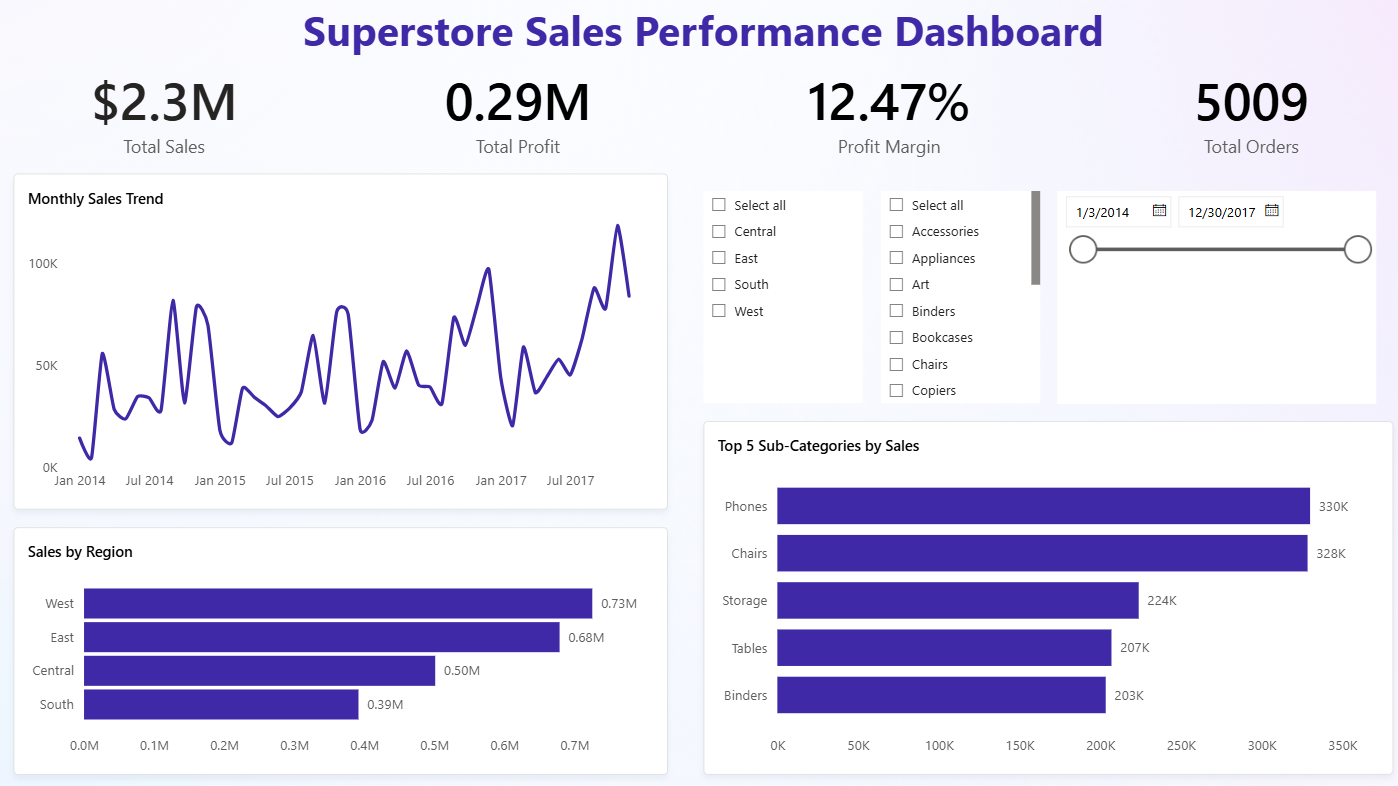

This screenshot's page, from the dashboard's own definition file:
{"tool":"powerbi","page":{"name":"Page 1","canvas":[1280,720],"ordinal":0},"visuals":[{"type":"textbox","box":[0,0,1280,64],"z":0},{"type":"card","title":"Total Sales","fields":{"Values":["superstore.Total Sales"]},"box":[0,48,304,112],"z":1000},{"type":"card","fields":{"Values":["superstore.Total Profit"]},"box":[320,48,304,112],"z":2000},{"type":"card","fields":{"Values":["superstore.Total Orders"]},"box":[992,48,288,112],"z":3000},{"type":"card","fields":{"Values":["superstore.Profit Margin"]},"box":[656,48,304,112],"z":4000},{"type":"lineChart","title":"Monthly Sales Trend","fields":{"Y":["superstore.Total Sales"],"Category":["superstore.order_date.Variation.Date Hierarchy.Year","superstore.order_date.Variation.Date Hierarchy.Month"]},"box":[16,160,592,304],"z":5000},{"type":"clusteredBarChart","title":" Sales by Region ","fields":{"Y":["superstore.Total Sales"],"Category":["superstore.region"]},"box":[16,480,592,224],"z":6000},{"type":"clusteredBarChart","title":"Top 5 Sub-Categories by Sales","fields":{"Y":["superstore.Total Sales"],"Category":["superstore.sub_category"]},"box":[640,384,624,320],"z":7000},{"type":"slicer","title":"Region","fields":{"Values":["superstore.region"]},"box":[640,176,144,192],"z":8000},{"type":"slicer","title":"Category","fields":{"Values":["superstore.sub_category"]},"box":[800,176,144,192],"z":9000},{"type":"slicer","title":"Order Date","fields":{"Values":["superstore.order_date"]},"box":[960,176,288,192],"z":10000}]}

Visuals, with their boxes in screenshot pixels (x1, y1, x2, y2), scaled from the page's 1280x720 canvas onto the 1398x786 screenshot:
textbox: region(0, 0, 1397, 70)
"Total Sales" card: region(0, 52, 332, 175)
card - superstore.Total Profit: region(350, 52, 682, 175)
card - superstore.Total Orders: region(1083, 52, 1397, 175)
card - superstore.Profit Margin: region(716, 52, 1048, 175)
"Monthly Sales Trend" lineChart: region(17, 175, 664, 507)
" Sales by Region " clusteredBarChart: region(17, 524, 664, 769)
"Top 5 Sub-Categories by Sales" clusteredBarChart: region(699, 419, 1381, 769)
"Region" slicer: region(699, 192, 856, 402)
"Category" slicer: region(874, 192, 1031, 402)
"Order Date" slicer: region(1048, 192, 1363, 402)
